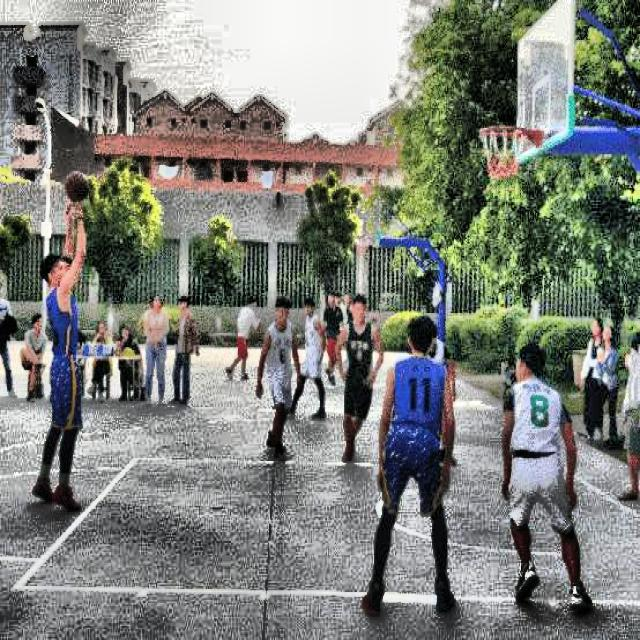rim: (478, 124, 524, 178)
